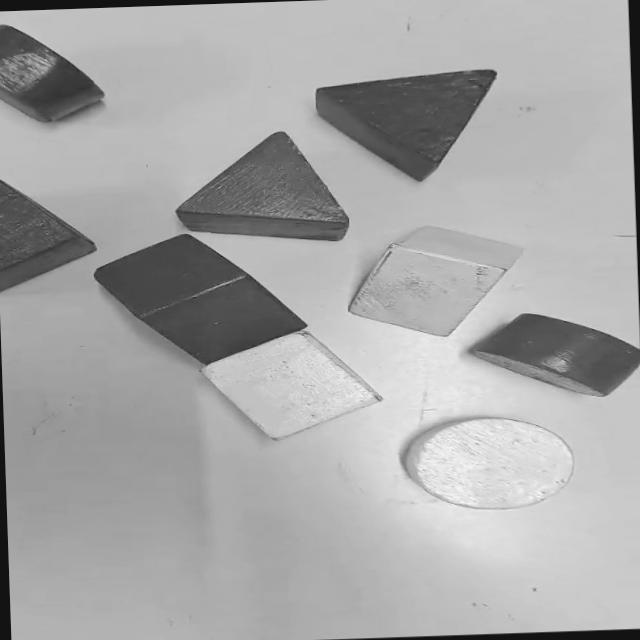bcircle: (0, 24, 103, 121)
btriangle: (315, 68, 495, 180)
rcircle: (470, 313, 639, 395)
rcube: (94, 233, 306, 363)
rtriangle: (176, 131, 348, 240)
ycircle: (403, 417, 574, 509)
ycube: (200, 330, 382, 439)
ytriangle: (348, 226, 523, 335)
